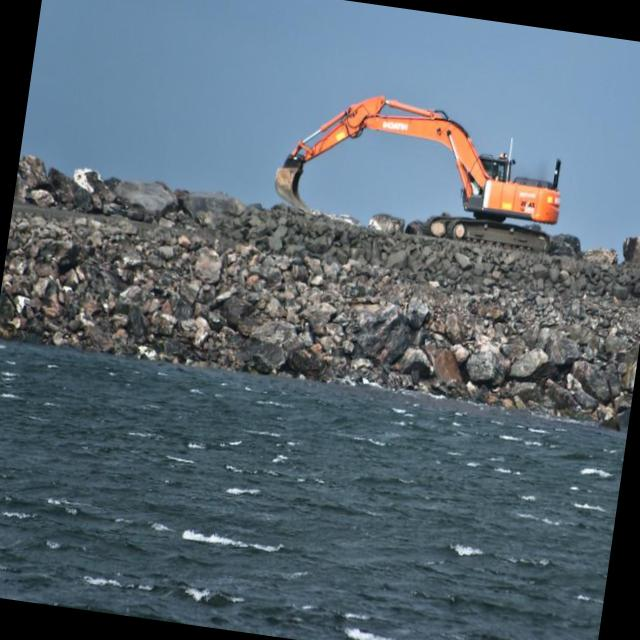Excavadora: (268, 82, 570, 257)
